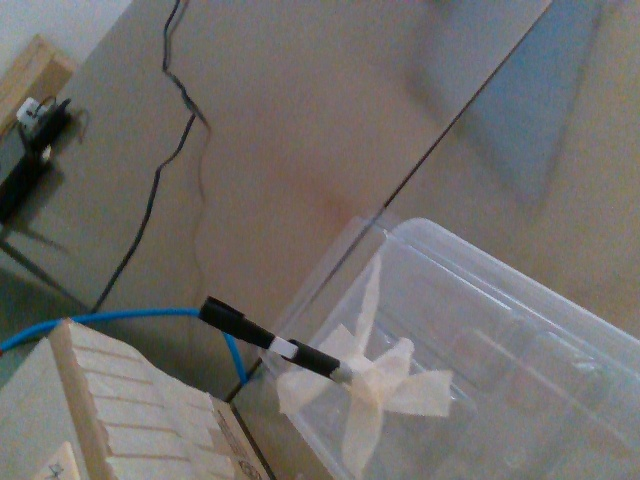test_strip: (193, 292, 298, 362)
